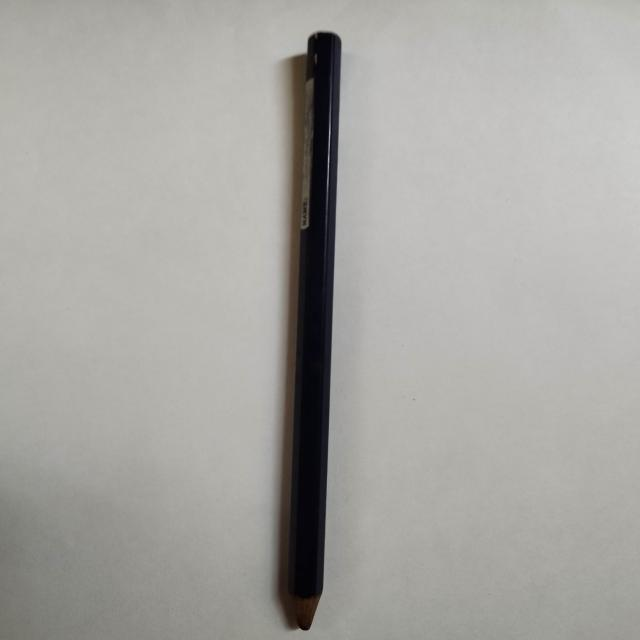pencil: (287, 30, 341, 630)
